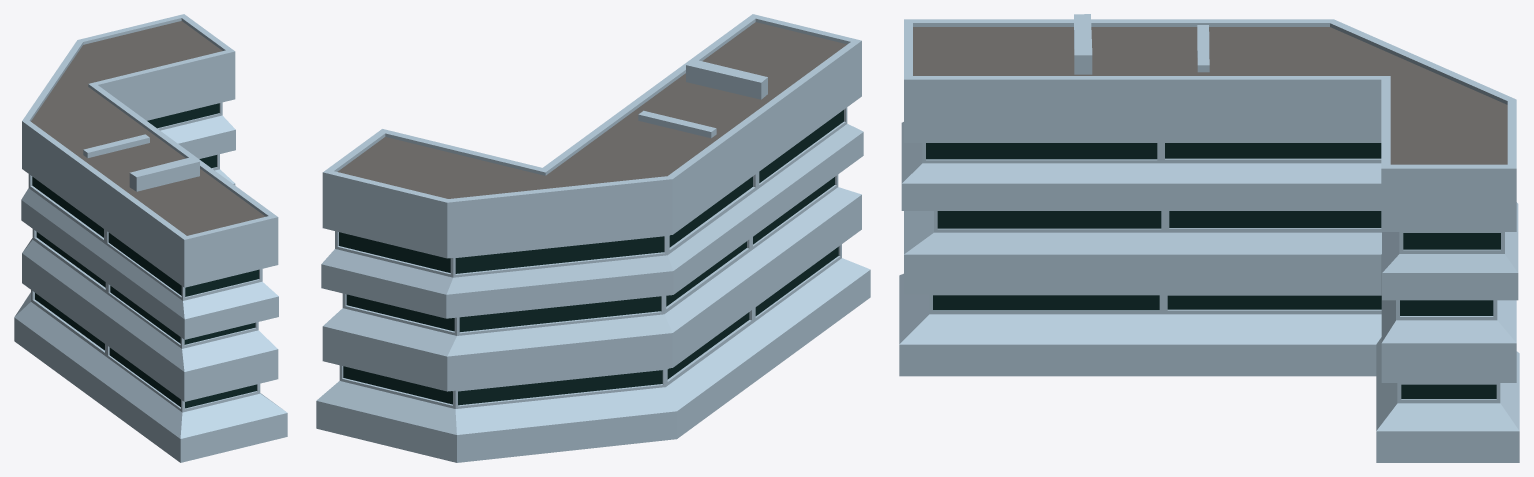
Rendered from 2CORONA.fbx.
3 views of the same model, side by side, from view 1: azimuth 30°, elevation 25°; view 2: azimuth 150°, elevation 25°; view 3: azimuth 270°, elevation 25° (orthographic). The views are drawn at different scales.
Parts seen in each view (by area): view 1: Corner bld; view 2: Corner bld; view 3: Corner bld.
Boxes of the visible parts, x1=… form: Corner bld: x1=14, y1=14, x2=287, y2=462; Corner bld: x1=316, y1=14, x2=870, y2=462; Corner bld: x1=899, y1=14, x2=1519, y2=462.
Size of the model in its own units: 400 by 367 by 673.
